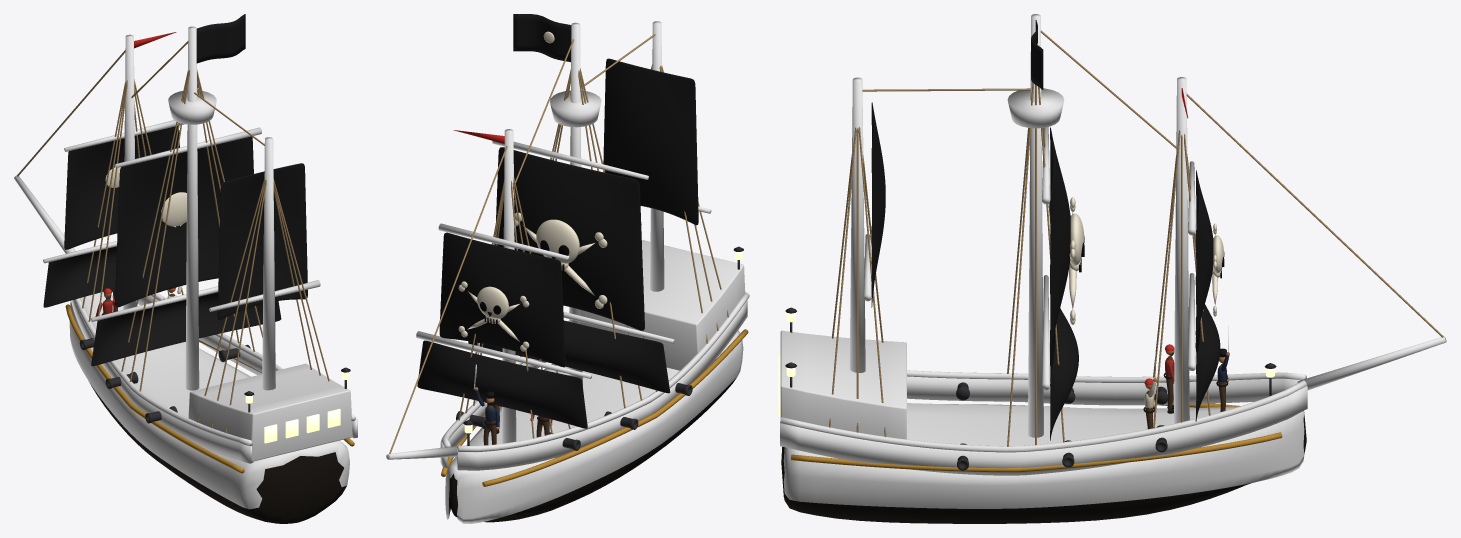
File: Pirate_Ship.fbx
3 views of the same model, side by side, from view 1: azimuth 30°, elevation 25°; view 2: azimuth 150°, elevation 25°; view 3: azimuth 270°, elevation 25° (orthographic). The views are drawn at different scales.
Visible parts, largest first — view 1: Ship_Hull, Ship_Sail_Main_Upper, Ship_Stern_Castle, Ship_Sail_Mizzen_Spanker, Ship_Sail_Fore_Upper, Ship_Sail_Main_Lower, Ship_Mast_Main, Ship_Sail_Fore_Lower, Ship_Mast_Mizzen, Ship_Bulwark_Port, Ship_Flag_Jolly_Roger, Ship_Cap_Rail_Port (+22 smaller); view 2: Ship_Hull, Ship_Sail_Main_Upper, Ship_Sail_Mizzen_Spanker, Ship_Sail_Fore_Upper, Ship_Stern_Castle, Ship_Sail_Fore_Lower, Ship_Sail_Main_Lower, Ship_Bulwark_Port, Ship_Cap_Rail_Port, Ship_Flag_Jolly_Roger, Ship_Mast_Fore, Ship_Wale_Trim_Port (+13 smaller); view 3: Ship_Hull, Ship_Bulwark_Starboard, Ship_Stern_Castle, Ship_Bulwark_Port, Ship_Mast_Fore, Ship_Mast_Main, Ship_Cap_Rail_Starboard, Ship_Mast_Mizzen, Ship_Sail_Main_Upper, Ship_Wale_Trim_Starboard, Ship_Sail_Main_Lower, Ship_Cap_Rail_Port (+9 smaller).
Part boxes in pixels (x1,y1,x2,y2): Ship_Hull: (69,292,349,523); Ship_Sail_Main_Upper: (115,136,253,307); Ship_Stern_Castle: (188,363,352,461); Ship_Sail_Mizzen_Spanker: (217,163,307,319); Ship_Sail_Fore_Upper: (64,126,179,249); Ship_Sail_Main_Lower: (91,292,281,365); Ship_Mast_Main: (185,26,199,390); Ship_Sail_Fore_Lower: (43,246,116,307); Ship_Mast_Mizzen: (262,137,275,390); Ship_Bulwark_Port: (71,300,253,463); Ship_Flag_Jolly_Roger: (196,14,245,63); Ship_Cap_Rail_Port: (74,298,252,446); Ship_Hull: (445,330,743,523); Ship_Sail_Main_Upper: (495,147,644,330); Ship_Sail_Mizzen_Spanker: (603,58,698,225); Ship_Sail_Fore_Upper: (439,232,565,367); Ship_Stern_Castle: (582,240,745,370); Ship_Sail_Fore_Lower: (417,340,587,428); Ship_Sail_Main_Lower: (468,320,670,393); Ship_Bulwark_Port: (456,300,747,470); Ship_Cap_Rail_Port: (456,292,749,452); Ship_Flag_Jolly_Roger: (513,14,571,62); Ship_Mast_Fore: (502,129,516,443); Ship_Wale_Trim_Port: (482,329,748,486); Ship_Hull: (781,403,1306,523); Ship_Bulwark_Starboard: (780,386,1307,475); Ship_Stern_Castle: (780,330,906,439); Ship_Bulwark_Port: (907,376,1299,405); Ship_Mast_Fore: (1173,77,1189,423); Ship_Mast_Main: (1028,14,1043,437); Ship_Cap_Rail_Starboard: (780,380,1306,452); Ship_Mast_Mizzen: (849,77,865,372); Ship_Sail_Main_Upper: (1050,127,1070,365); Ship_Wale_Trim_Starboard: (791,432,1282,472); Ship_Sail_Main_Lower: (1050,308,1078,440); Ship_Cap_Rail_Port: (907,370,1306,382).
Bounding box in the file's own units: 6.4 × 13.53 × 16.49.
